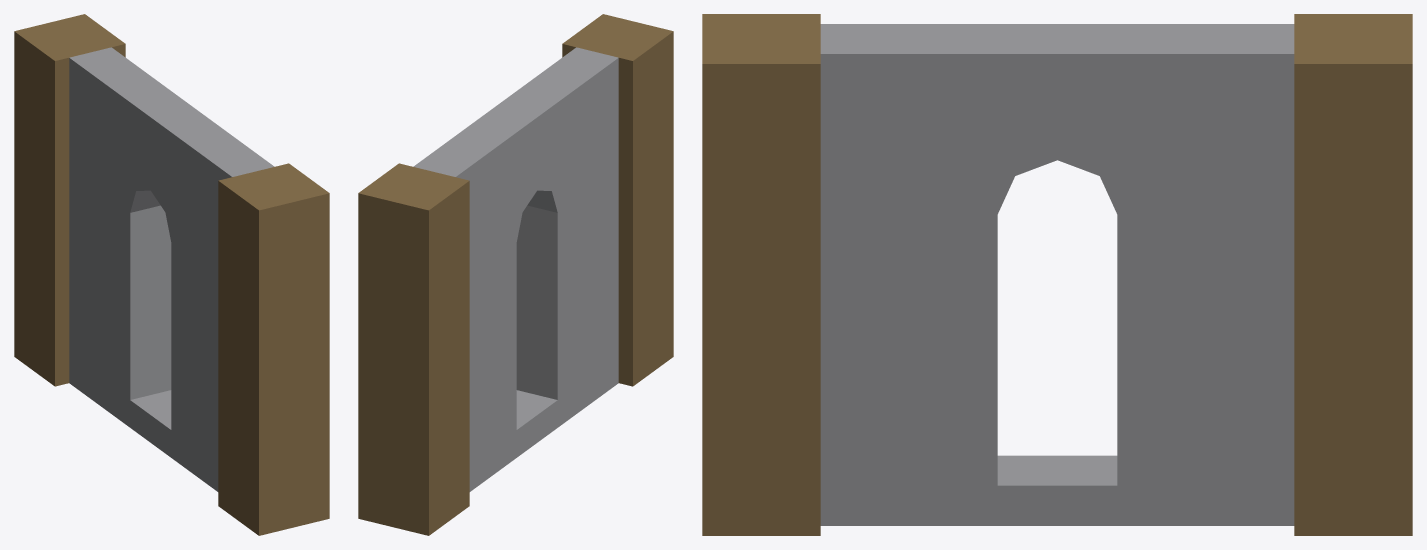
File: Wood_Window_Round_Long_01.obj
3 renders of one model, left to right at view 1: azimuth 30°, elevation 25°; view 2: azimuth 150°, elevation 25°; view 3: azimuth 270°, elevation 25°, orthographic. The views are drawn at different scales.
Parts seen in each view (by area): view 1: Mesh1_Wood_Window_Round_Long_Model; view 2: Mesh1_Wood_Window_Round_Long_Model; view 3: Mesh1_Wood_Window_Round_Long_Model.
Part boxes in pixels (x1=…): Mesh1_Wood_Window_Round_Long_Model: x1=14, y1=14, x2=329, y2=535; Mesh1_Wood_Window_Round_Long_Model: x1=358, y1=14, x2=673, y2=535; Mesh1_Wood_Window_Round_Long_Model: x1=702, y1=14, x2=1412, y2=535.
Bounding box in the file's own units: 0.5 × 2.2 × 3.
